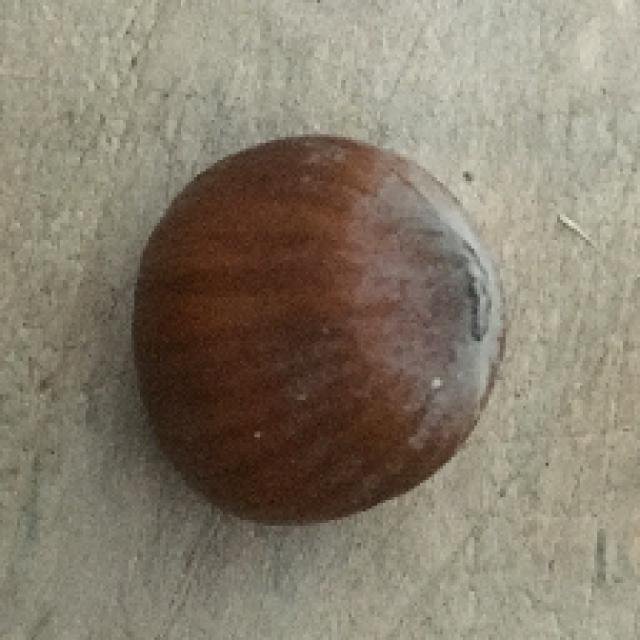qualityHazelnut: (124, 129, 511, 536)
